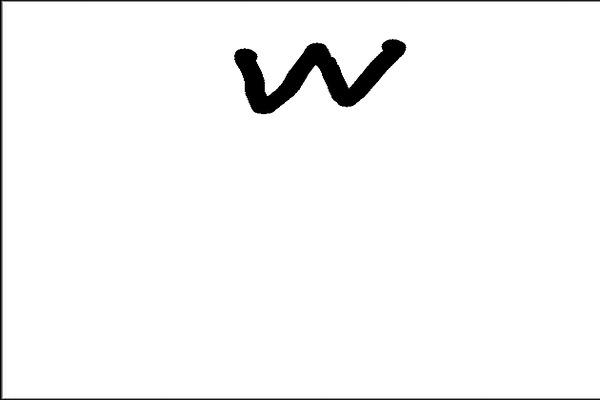w: (223, 29, 439, 130)
